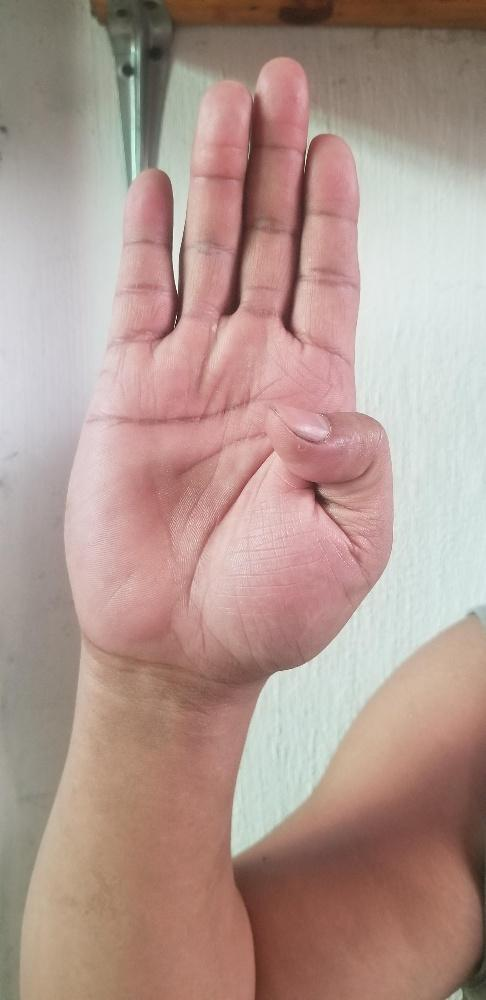b: (62, 54, 398, 670)
